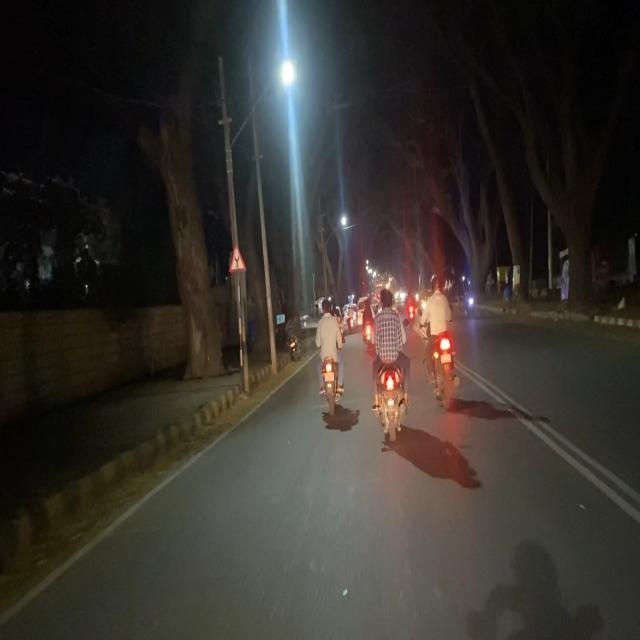bien_nguy_hiem: (228, 240, 246, 274)
